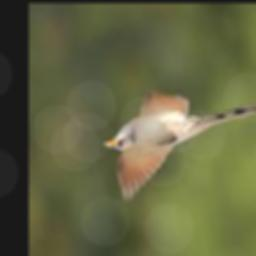Cuckoo: (103, 97, 256, 200)
